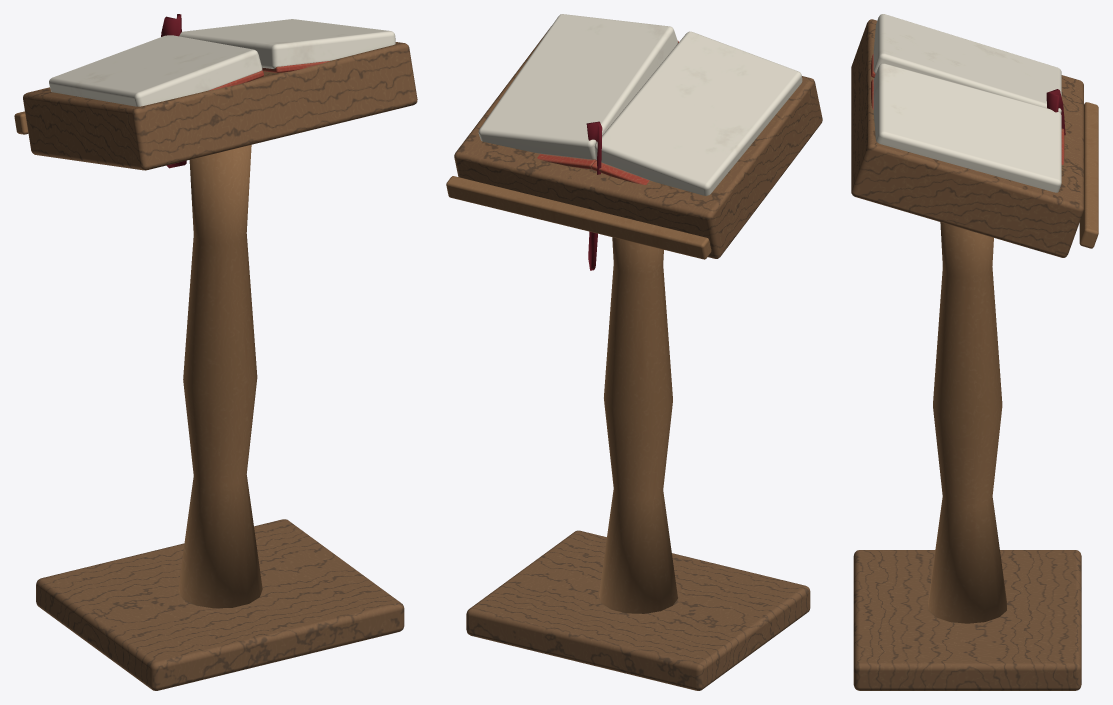
Rendered from atril.glb.
3 views of the same model, side by side, from view 1: azimuth 30°, elevation 25°; view 2: azimuth 150°, elevation 25°; view 3: azimuth 270°, elevation 25° (orthographic). The views are drawn at different scales.
Parts seen in each view (by area): view 1: atril; view 2: atril; view 3: atril.
Part boxes in pixels (x1,y1,x2,y2): atril: [14, 14, 417, 690]; atril: [446, 14, 822, 690]; atril: [851, 14, 1098, 690].
Size of the model in its own units: 0.6 by 1.25 by 0.4885.
1 material, 1 textured.
